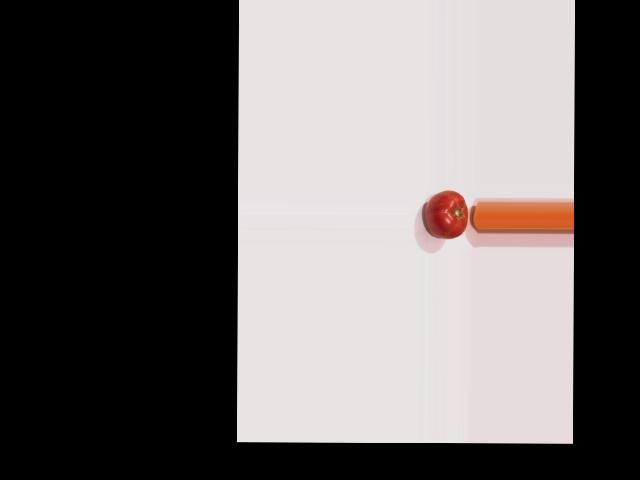tomato: (425, 190, 467, 238)
